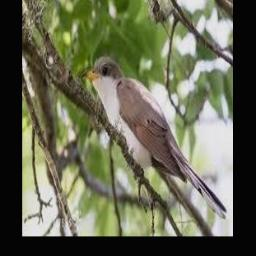Cuckoo: (81, 56, 226, 218)
